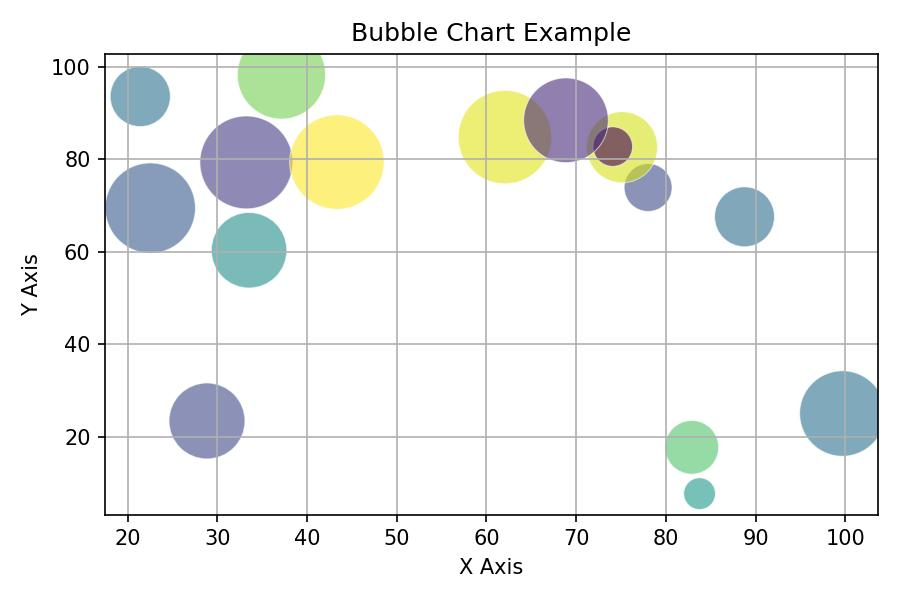axis: (86, 505, 889, 554), (50, 40, 118, 543)
circle: (289, 113, 385, 211), (458, 88, 551, 187), (200, 116, 294, 210), (106, 161, 196, 255), (525, 76, 609, 163), (799, 370, 880, 455), (236, 53, 329, 118), (168, 383, 247, 458), (213, 213, 288, 287), (589, 113, 660, 182), (110, 67, 170, 128), (715, 187, 774, 247), (665, 419, 721, 475), (625, 165, 673, 211), (684, 478, 716, 511)
